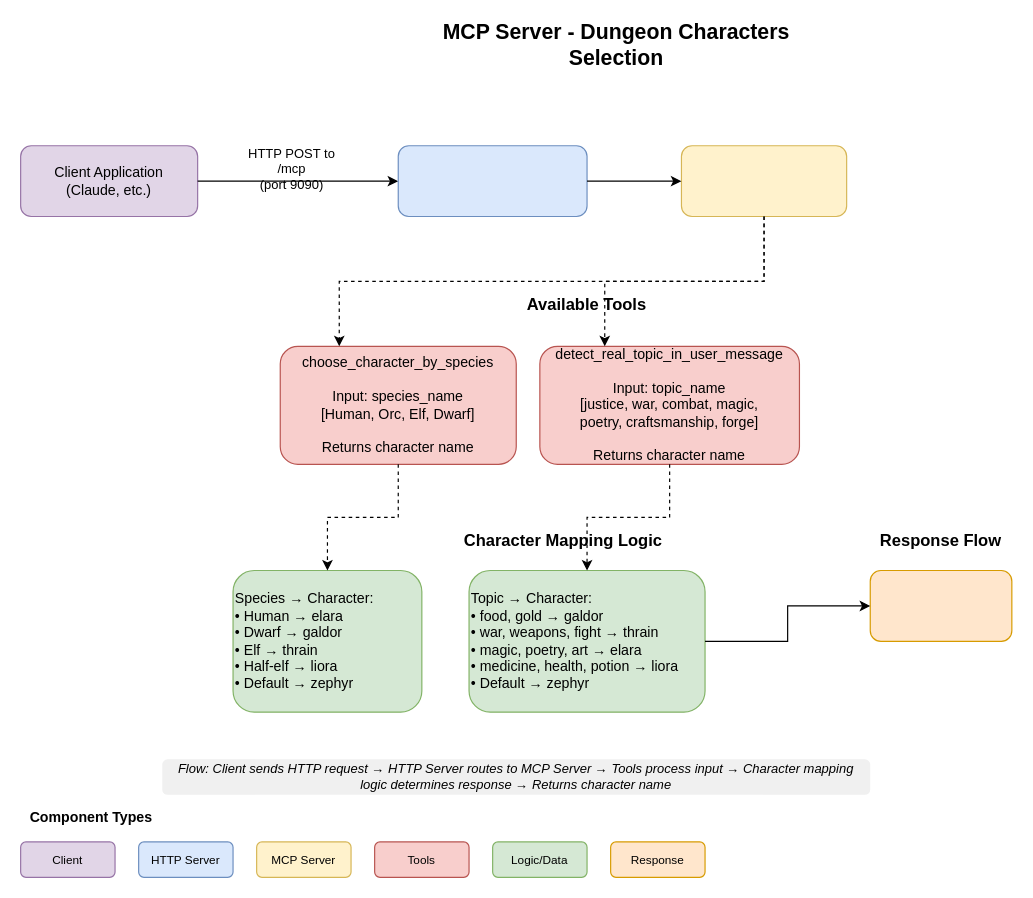
This 1033x898 diagram has some shape labels left out. The centre of each missing label's shape, as x and y in pixels:
HTTP Server (StreamableHTTPServer): point 492,181
MCP Server ("mcp-dd" v0.0.0): point 763,181
Returns: Character Name (string): point 940,605
